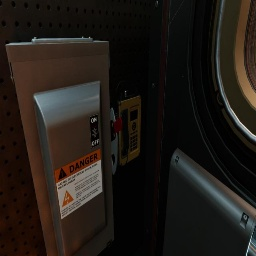EmergencyPhone ,: (114, 81, 141, 166)
SafetySwitchPanel ,: (5, 36, 122, 256)
